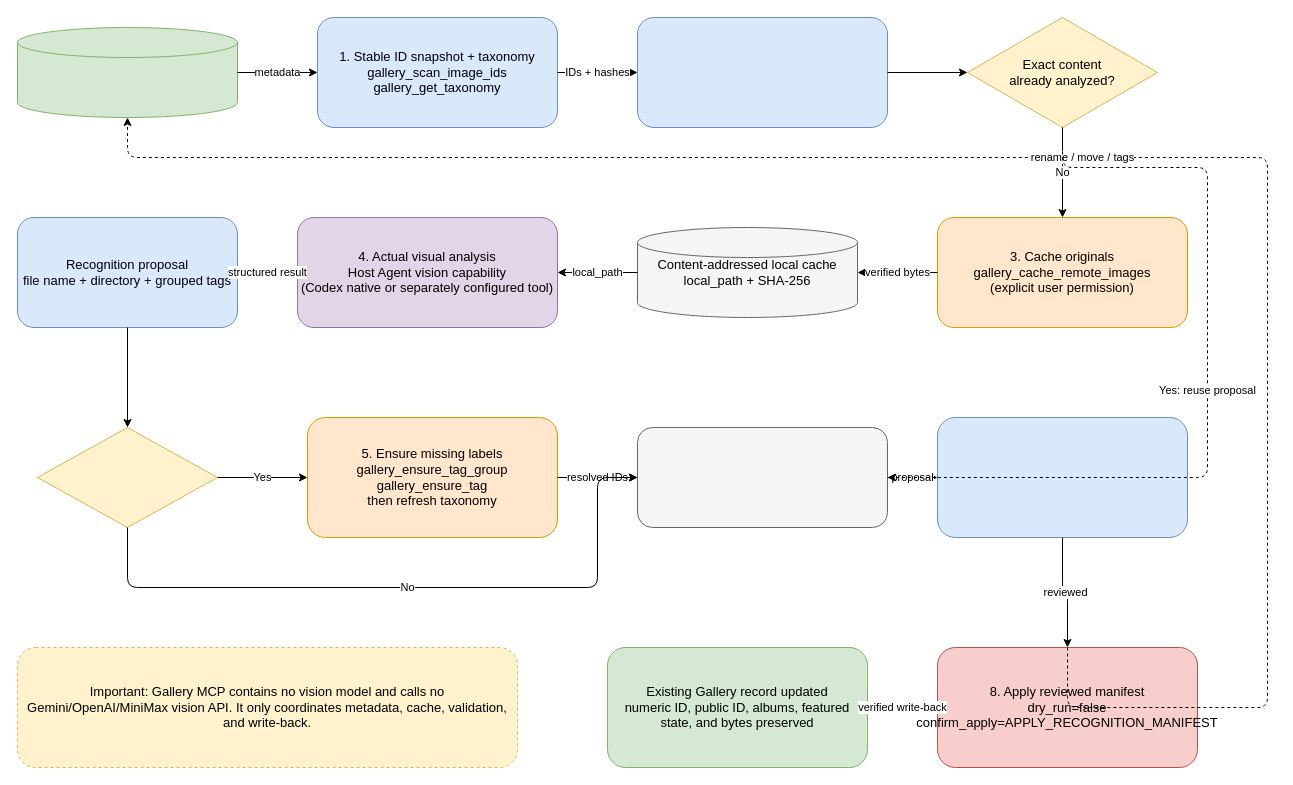
Image size: 1293x785. Some labels were removed from this diagram. Each missing label, with the centre of its shape:
"2. Check local state gallery_get_remote_image_ cache_status_batch" goes at (x=762, y=72).
"6. Save proposal reference gallery_mark_remote_image_analyzed" goes at (x=762, y=477).
"7. Preflight gallery_apply_recognition_manifest dry_run=true, result_detail=all" goes at (x=1062, y=477).
"Gallery Online D1 metadata + R2 originals" goes at (x=127, y=72).
"Missing taxonomy?" goes at (x=127, y=477).
